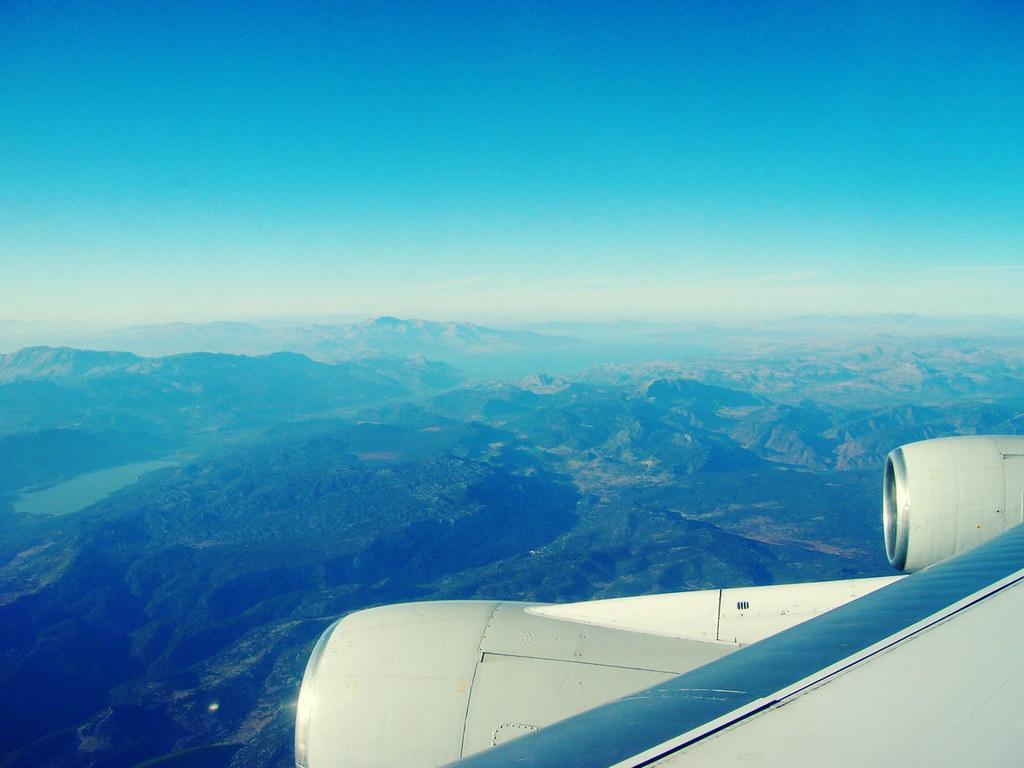plane: (293, 433, 1023, 767)
